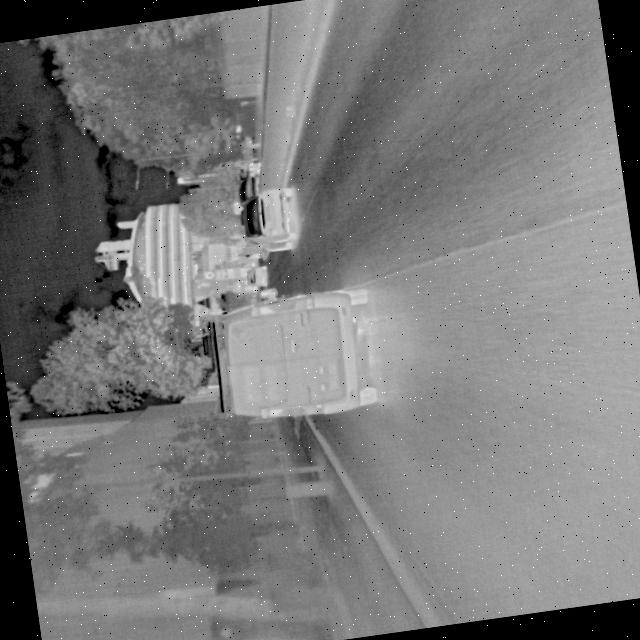Vehicle: (202, 278, 384, 431), (234, 184, 306, 258), (244, 263, 271, 288)
